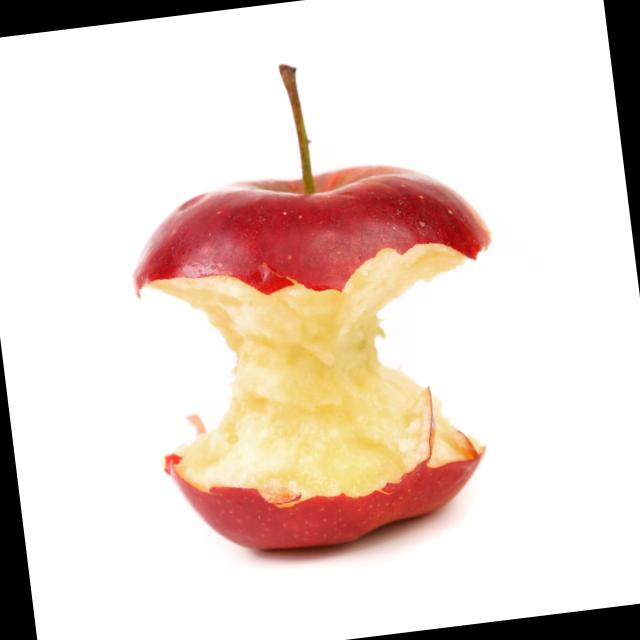apple_fruit: (125, 138, 529, 572)
